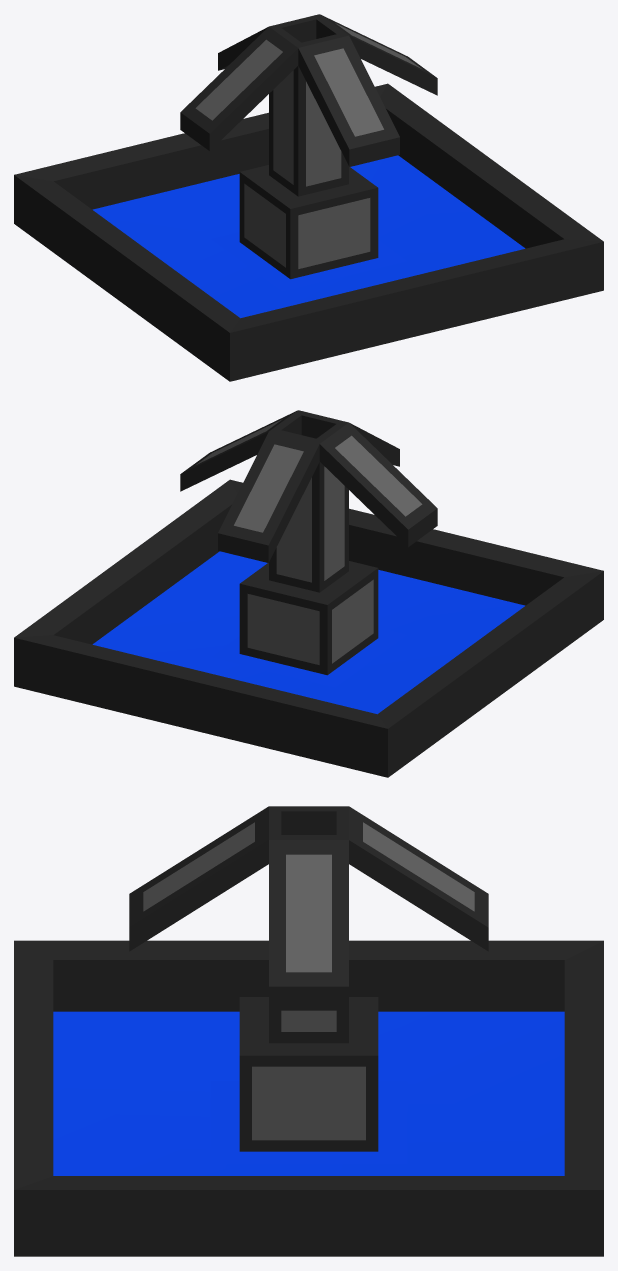
The model's file is FountainWater.FBX.
3 renders of one model, top to bottom at view 1: azimuth 30°, elevation 25°; view 2: azimuth 150°, elevation 25°; view 3: azimuth 270°, elevation 25°, orthographic. The views are drawn at different scales.
Visible parts, largest first — view 1: Box001; view 2: Box001; view 3: Box001.
Boxes of the visible parts, <box> form: Box001: <box>14,14,603,381</box>; Box001: <box>14,410,603,777</box>; Box001: <box>14,806,603,1256</box>.
Size of the model in its own units: 4 by 2.31 by 4.
